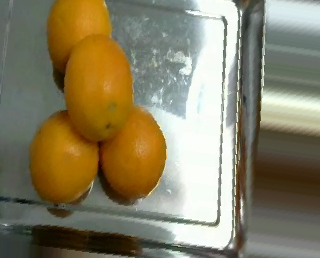Orange: (63, 33, 133, 140), (29, 109, 99, 203), (100, 104, 166, 198), (46, 1, 112, 86)
